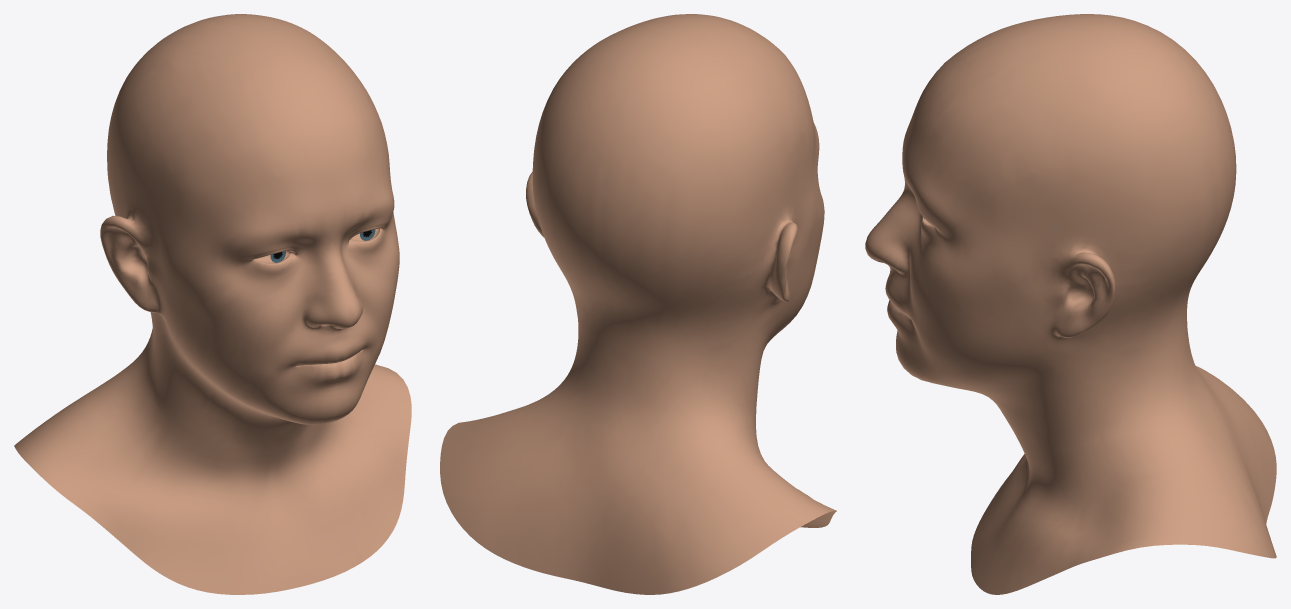
The model's file is head.extra.glb.
3 renders of one model, left to right at view 1: azimuth 30°, elevation 25°; view 2: azimuth 150°, elevation 25°; view 3: azimuth 270°, elevation 25°, orthographic. The views are drawn at different scales.
Visible parts, largest first — view 1: skin; view 2: skin; view 3: skin.
Boxes of the visible parts, x1,y1,x2,y2 form: skin: [14, 14, 411, 594]; skin: [440, 14, 836, 594]; skin: [865, 14, 1276, 594].
Size of the model in its own units: 0.2554 by 0.3416 by 0.2387.
